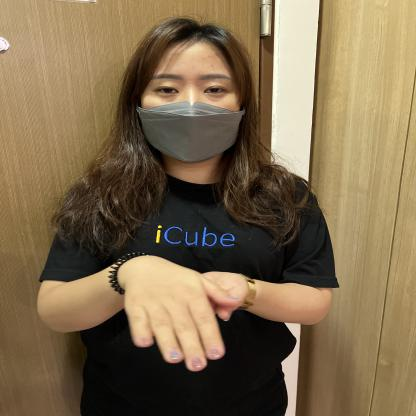Love: (43, 208, 361, 386)
